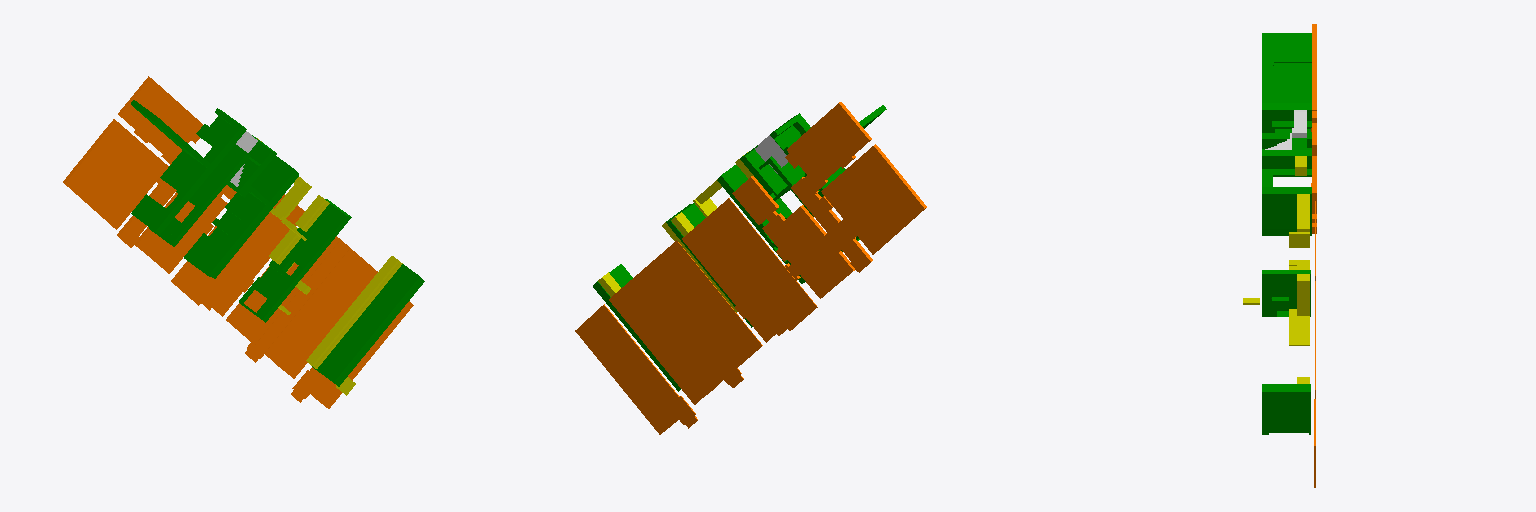
The model's file is interierpp.obj.
3 renders of one model, left to right at view 1: azimuth 30°, elevation 25°; view 2: azimuth 150°, elevation 25°; view 3: azimuth 270°, elevation 25°, orthographic.
Visible parts, largest first — view 1: 3D_podlahy, 3D_interier_doplnky; view 2: 3D_podlahy, 3D_interier_doplnky, 3D_schody; view 3: 3D_interier_doplnky, 3D_podlahy, 3D_schody.
Part boxes in pixels (x1,y1,x2,y2): 3D_podlahy: (63, 76, 413, 408); 3D_interier_doplnky: (257, 138, 402, 395); 3D_podlahy: (575, 102, 926, 434); 3D_interier_doplnky: (598, 152, 753, 312); 3D_schody: (755, 135, 787, 173); 3D_interier_doplnky: (1243, 156, 1309, 383); 3D_podlahy: (1311, 24, 1316, 487); 3D_schody: (1265, 110, 1306, 149).
Size of the model in its own units: 24.57 by 25.23 by 4.45.